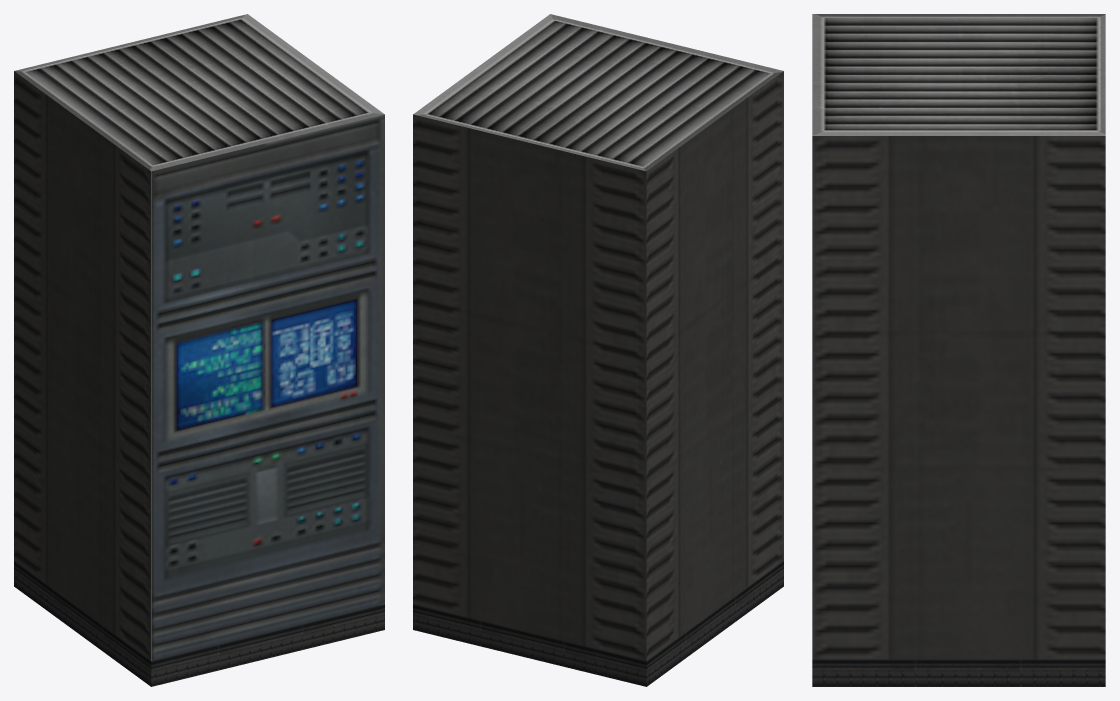
The model's file is armario-interno-4.fbx.
3 views of the same model, side by side, from view 1: azimuth 30°, elevation 25°; view 2: azimuth 150°, elevation 25°; view 3: azimuth 270°, elevation 25° (orthographic). The views are drawn at different scales.
Parts seen in each view (by area): view 1: Cylinder; view 2: Cylinder; view 3: Cylinder.
Boxes of the visible parts, x1,y1,x2,y2 form: Cylinder: [14, 14, 384, 686]; Cylinder: [413, 14, 783, 686]; Cylinder: [812, 14, 1105, 686].
Bounding box in the file's own units: 0.975 × 2.06 × 0.992.
